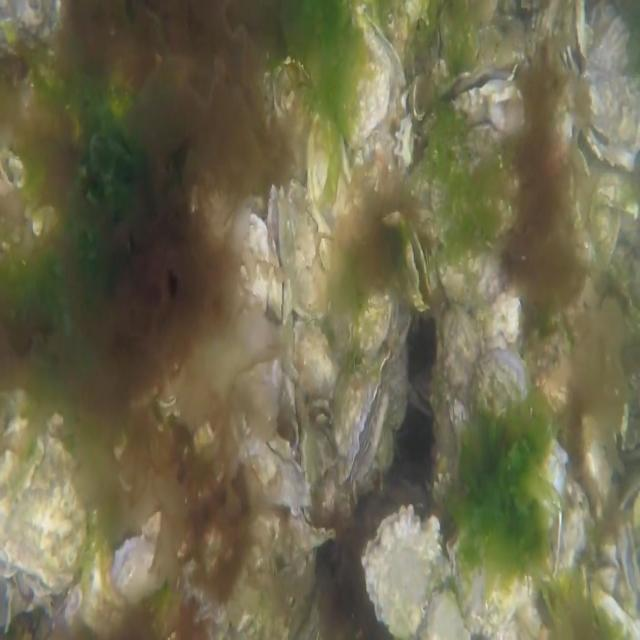Oyster-Closed: (446, 518, 540, 640), (335, 348, 392, 482), (237, 432, 312, 513), (292, 502, 337, 554)
Oyster-Indeterminate: (464, 345, 570, 502), (0, 412, 87, 596), (361, 503, 441, 640), (335, 0, 391, 151), (438, 302, 482, 466), (305, 112, 358, 236), (285, 177, 327, 319), (352, 284, 412, 368), (111, 512, 162, 602), (290, 316, 337, 413), (436, 241, 506, 305), (233, 208, 270, 312), (0, 0, 64, 58), (588, 582, 639, 640), (590, 163, 640, 217), (588, 202, 621, 272)
Oyster-Open: (580, 15, 640, 170), (437, 65, 527, 156), (261, 357, 298, 460), (266, 183, 290, 322), (404, 228, 435, 313), (617, 517, 640, 618), (565, 0, 588, 76)
